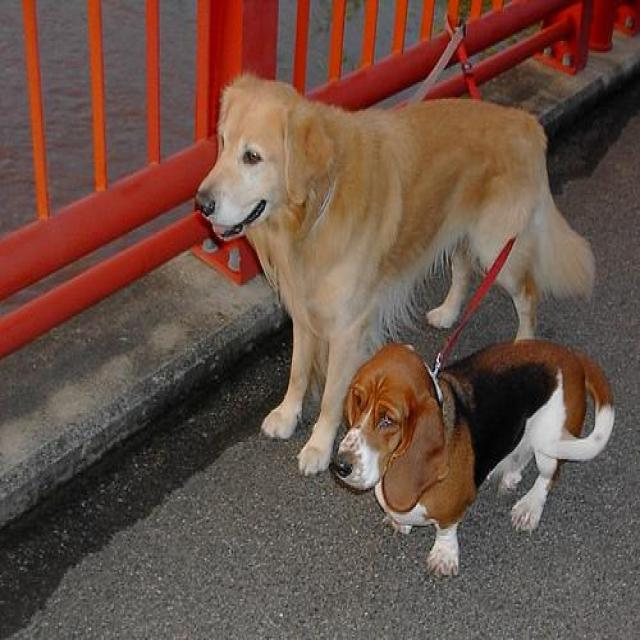basset: (333, 338, 614, 585)
